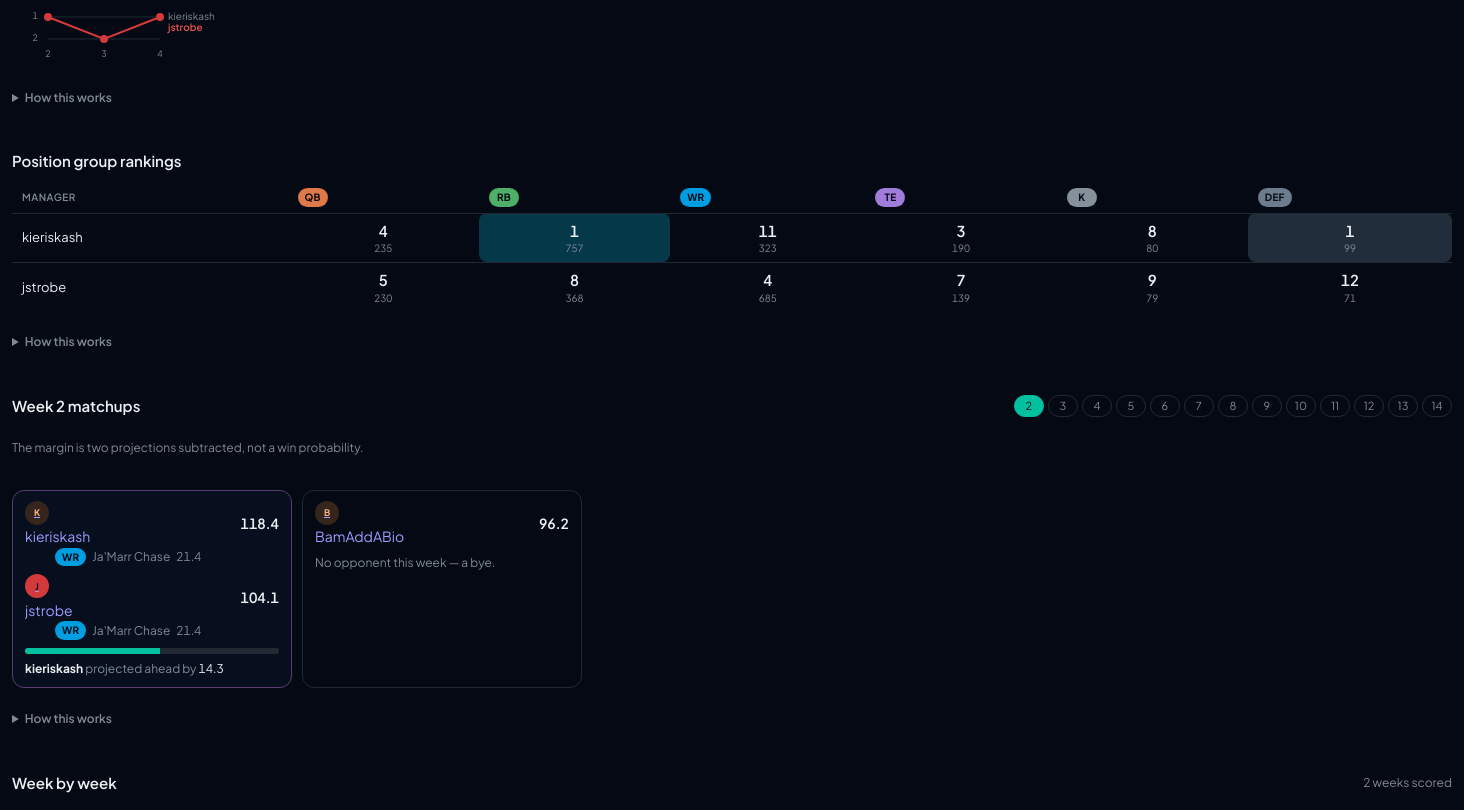
LeagueAnalysis › refetches the matchup block for the week you pick
(page scrolled)
Expected: the heading "Week 2 matchups" is shown, [12,395,140,416]
What coordinates should you click on to do the following:
click the button "6"
I would click on:
 (1165, 406)
Its box is [1150,395,1180,416].
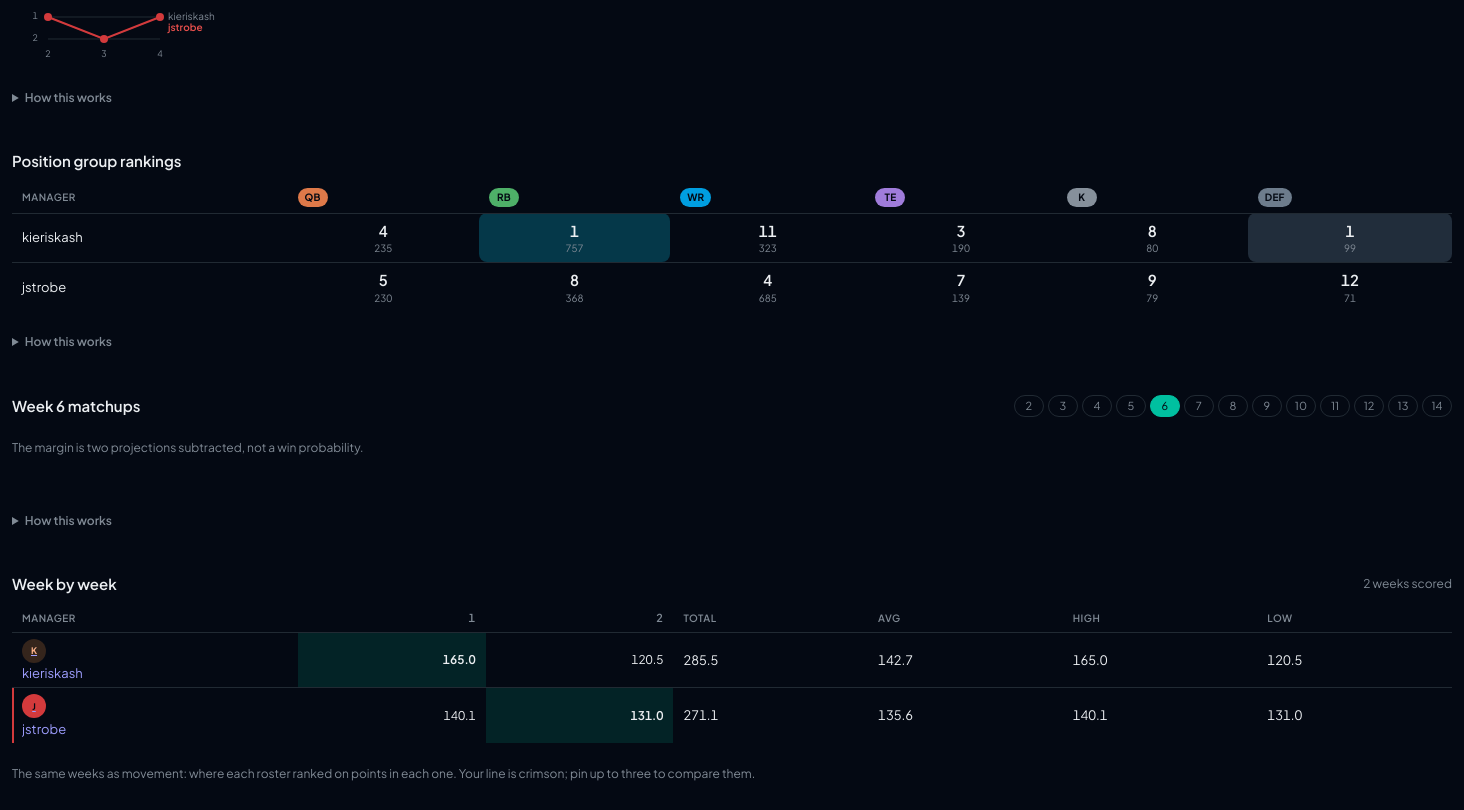
Expected: the heading "Week 6 matchups" is shown, [12,395,140,416]
